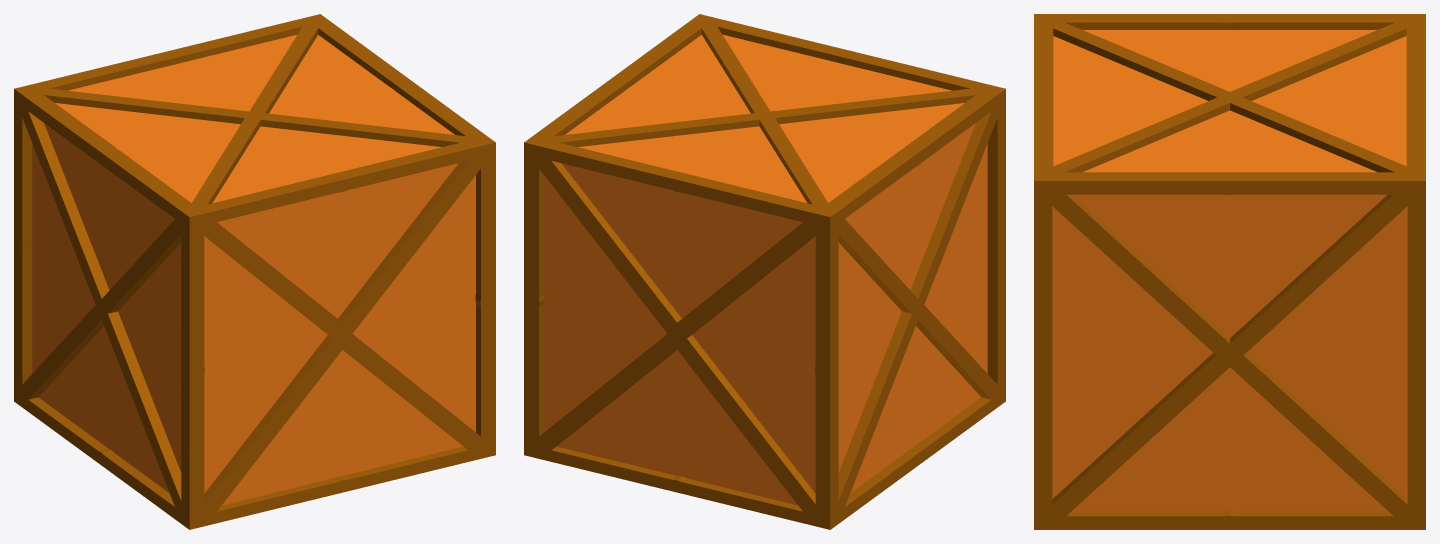
File: VeryNiceCrate.fbx
3 renders of one model, left to right at view 1: azimuth 30°, elevation 25°; view 2: azimuth 150°, elevation 25°; view 3: azimuth 270°, elevation 25°, orthographic. The views are drawn at different scales.
Parts seen in each view (by area): view 1: Cube; view 2: Cube; view 3: Cube.
Part boxes in pixels (x1,y1,x2,y2): Cube: (14,14,495,529); Cube: (524,14,1005,529); Cube: (1034,14,1425,529).
Bounding box in the file's own units: 214 × 213 × 209.
